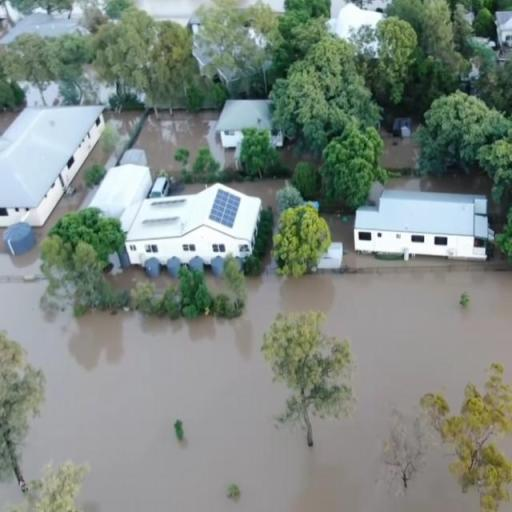flood: (0, 231, 512, 512), (134, 112, 234, 177), (382, 131, 420, 168)
house: (2, 99, 116, 253), (116, 178, 260, 276), (353, 188, 491, 266), (216, 97, 286, 149), (95, 164, 151, 226)
